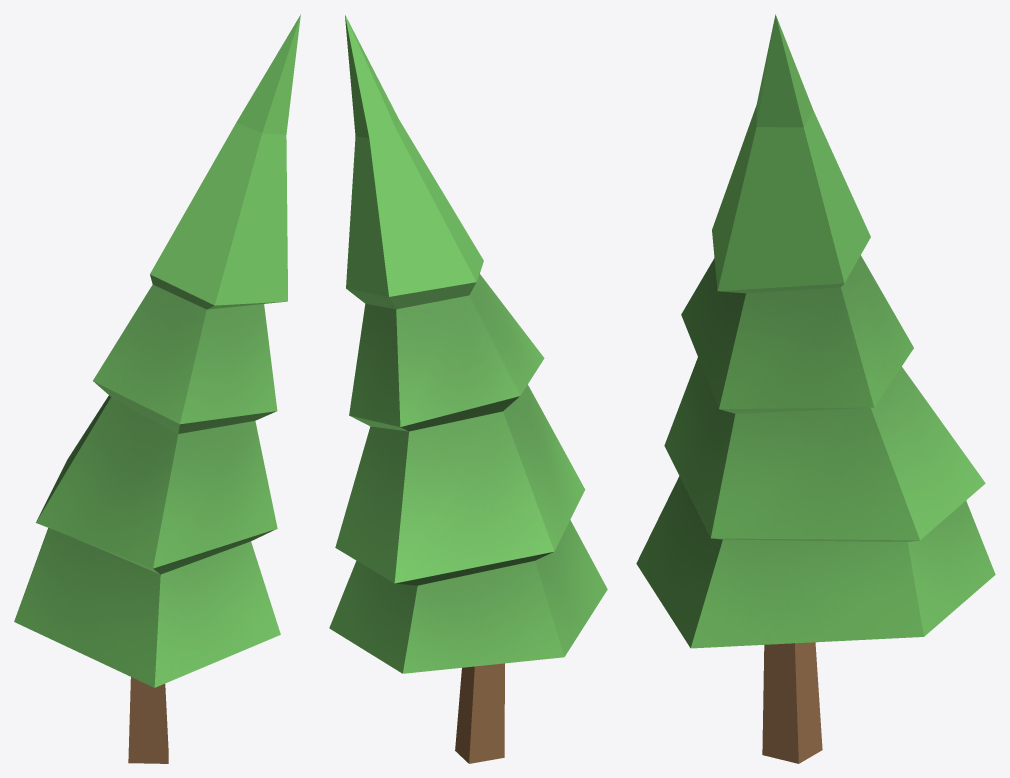
The model's file is Fir_Tree_m_12.fbx.
The picture shows the model from 3 angles, left to right: view 1: azimuth 30°, elevation 25°; view 2: azimuth 150°, elevation 25°; view 3: azimuth 270°, elevation 25°; orthographic projection. The views are drawn at different scales.
Parts seen in each view (by area): view 1: Fir_Tree_m_12; view 2: Fir_Tree_m_12; view 3: Fir_Tree_m_12.
Part boxes in pixels (left/top/right/bottom): Fir_Tree_m_12: left=14, top=14, right=300, bottom=763; Fir_Tree_m_12: left=329, top=15, right=607, bottom=763; Fir_Tree_m_12: left=636, top=14, right=995, bottom=763.
Size of the model in its own units: 175 by 468 by 186.
